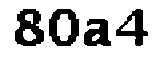0: (47, 7, 80, 49)
4: (115, 9, 152, 49)
8: (13, 7, 46, 49)
a: (82, 16, 113, 48)
